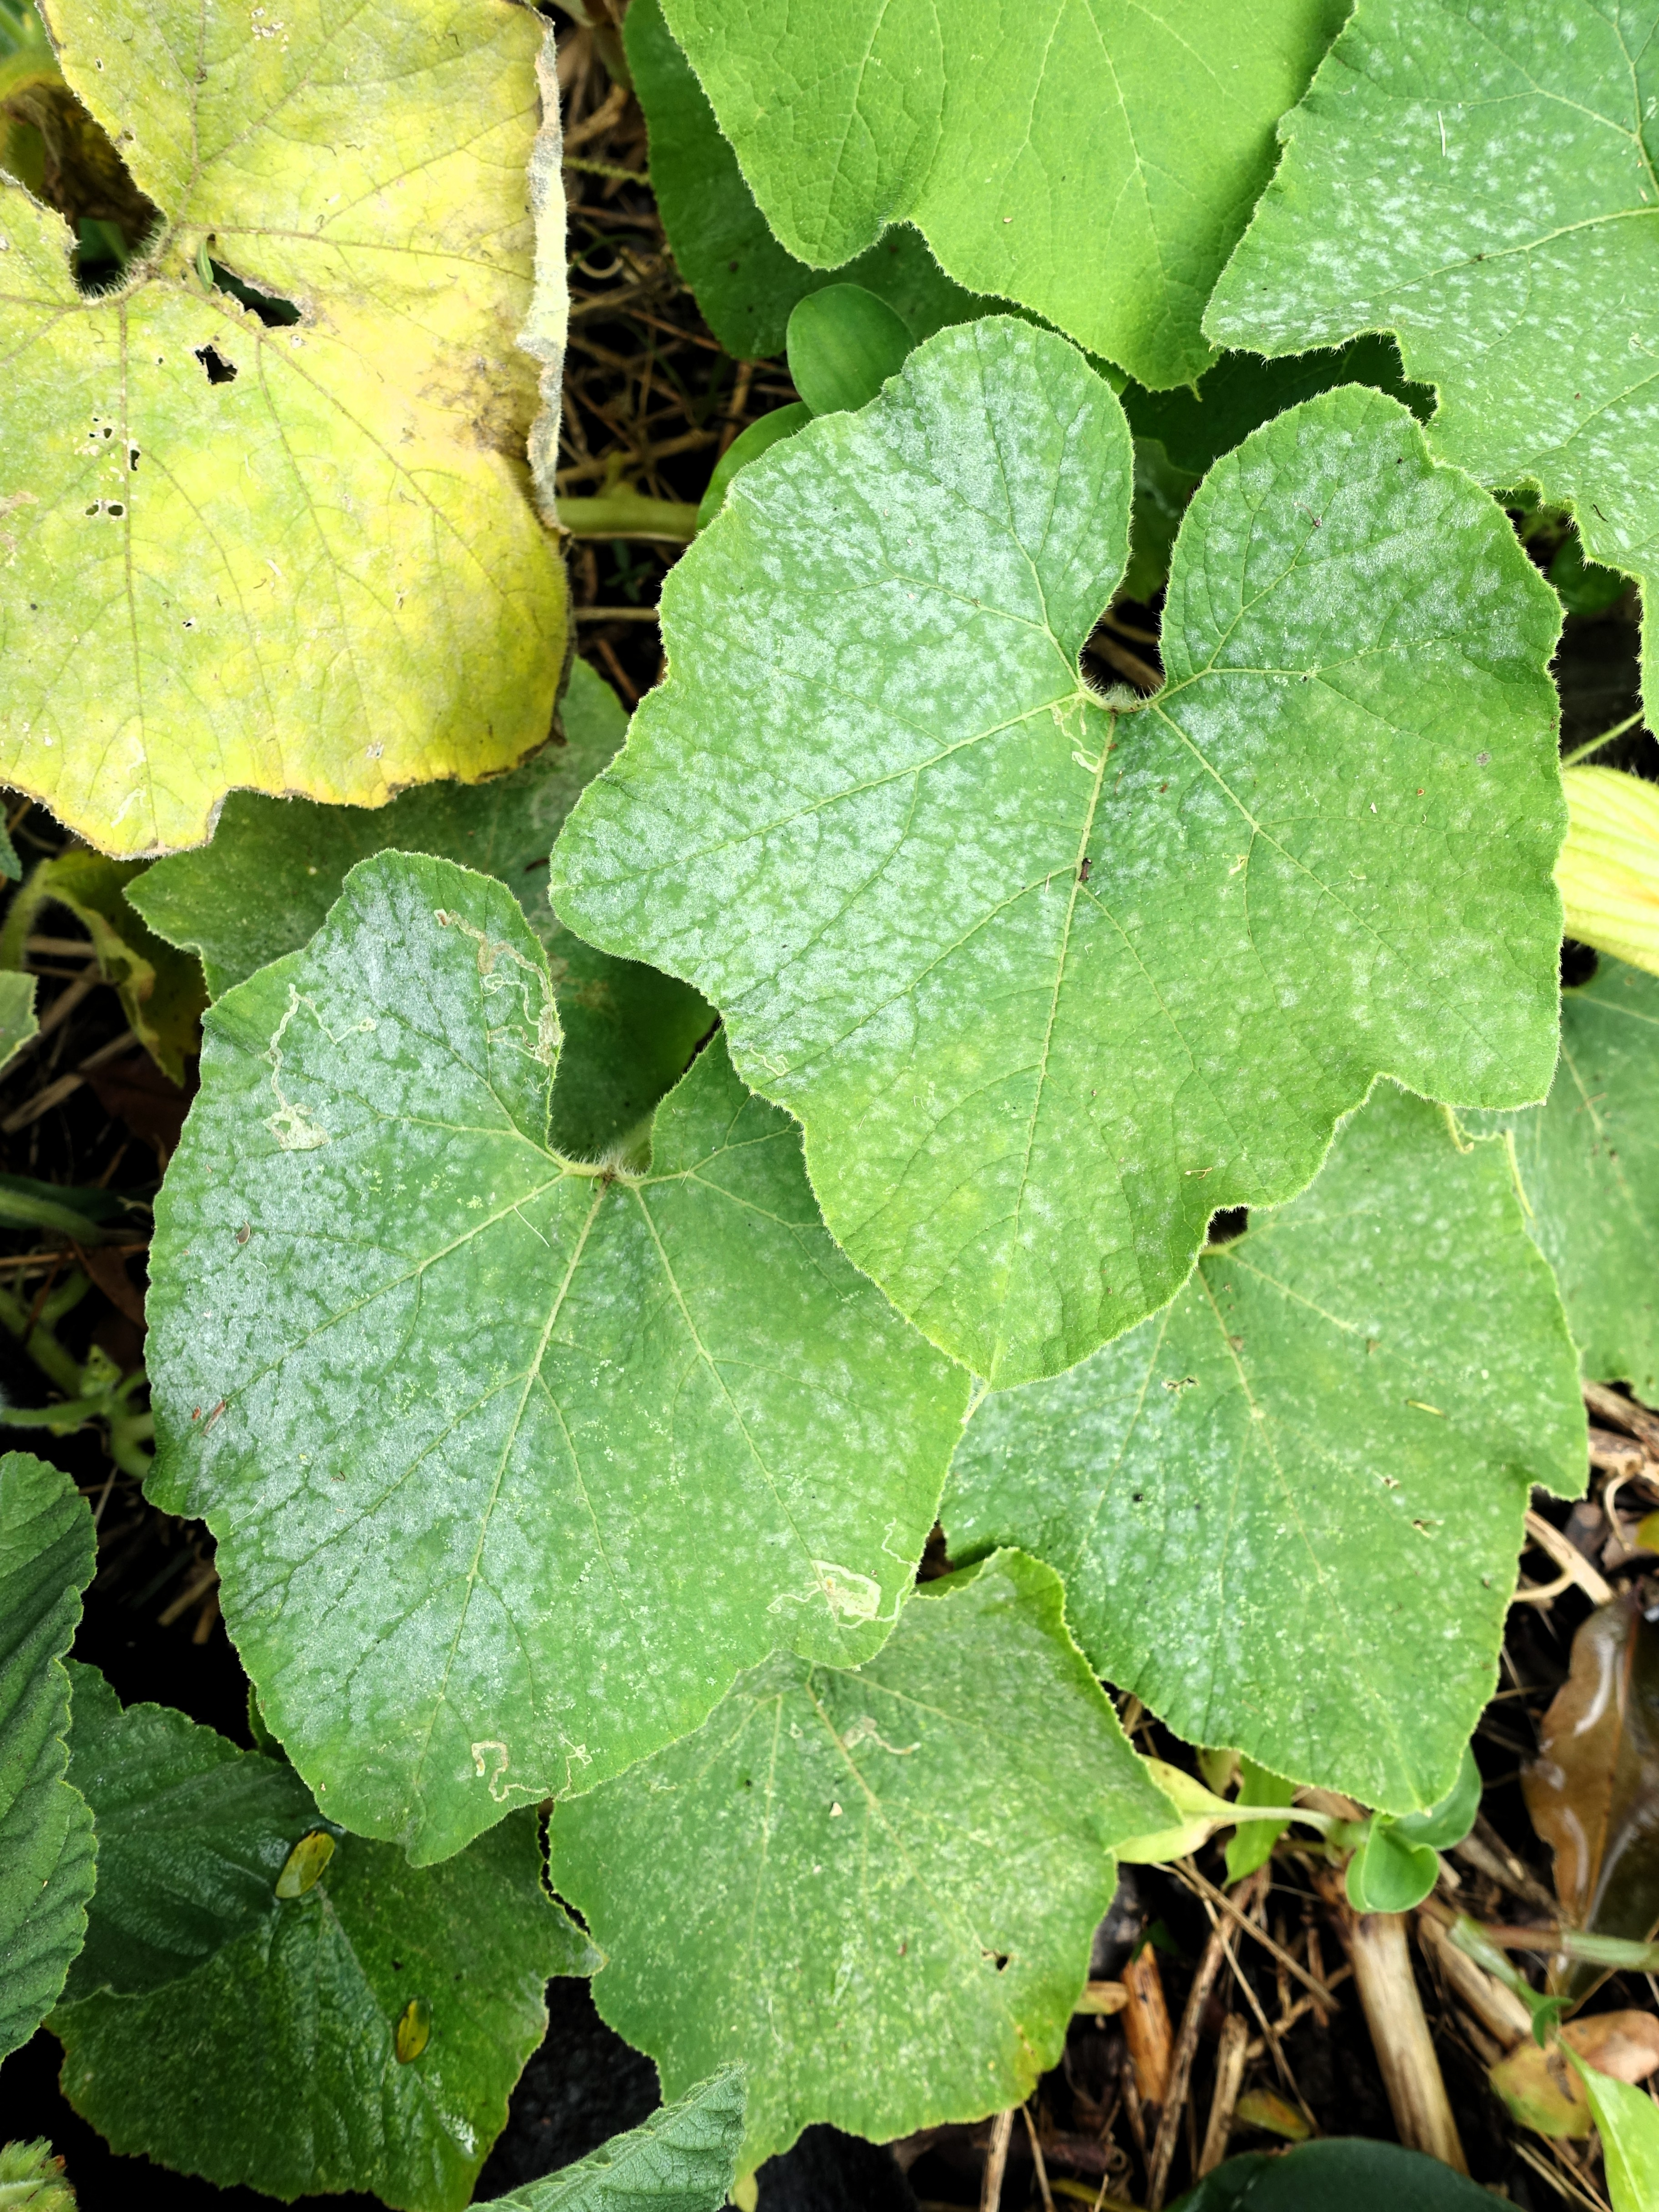Cucumber_PowderyMildew: (666, 373, 1492, 1268), (181, 928, 892, 1719), (1011, 1359, 1507, 1726)
